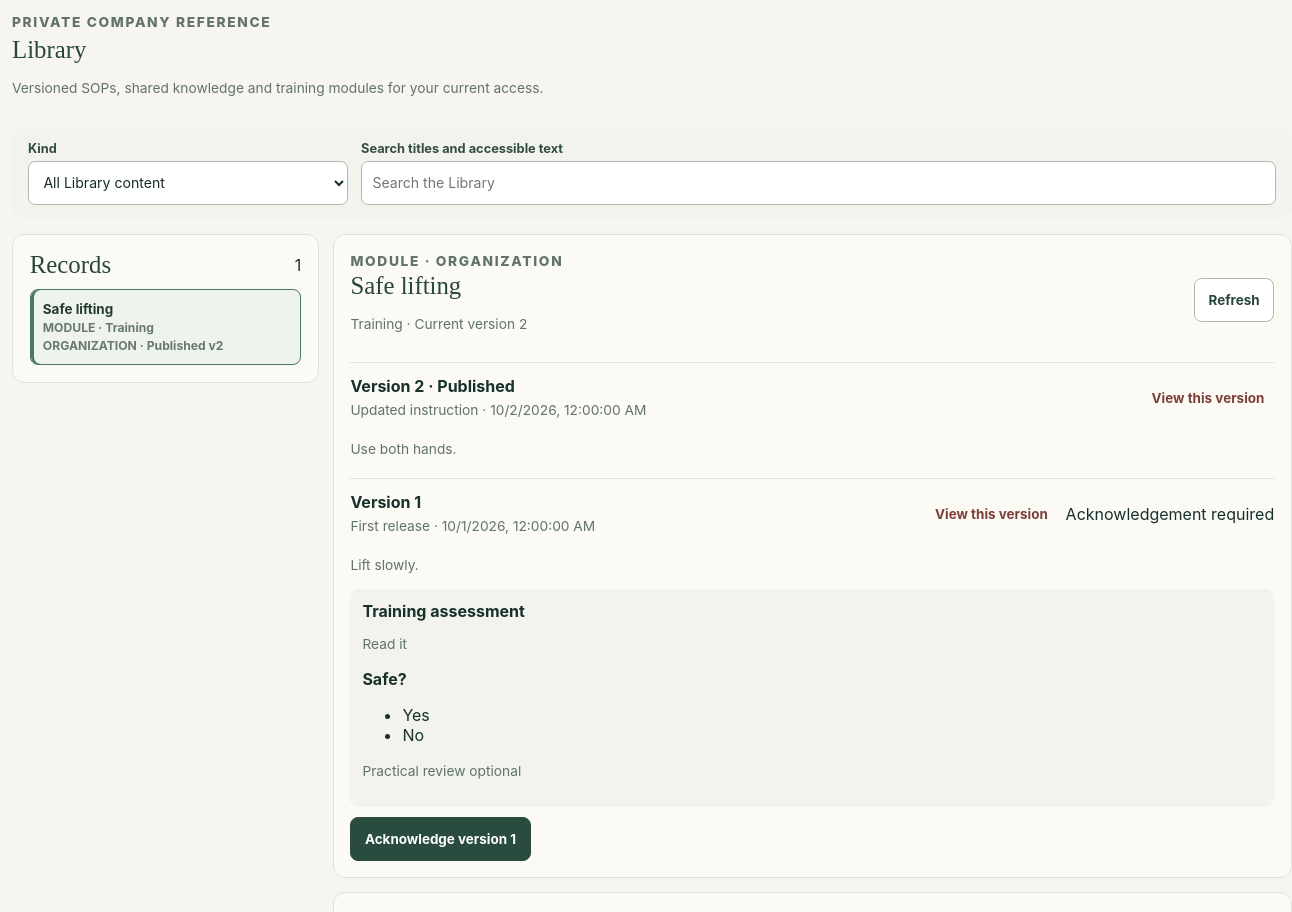
Scenario: LibraryWorkspace › retains exact published history, hides answer-key fields in the view, and acknowledges the older version ID
Expected: the text "Lift slowly." is shown, left=350, top=557, right=419, bottom=573
Expected: the text "First release · 10/1/2026, 12:00:00 AM" is shown, left=350, top=516, right=595, bottom=537
Click the button "Acknowledge version 1": (441, 839) left=350, top=817, right=531, bottom=861
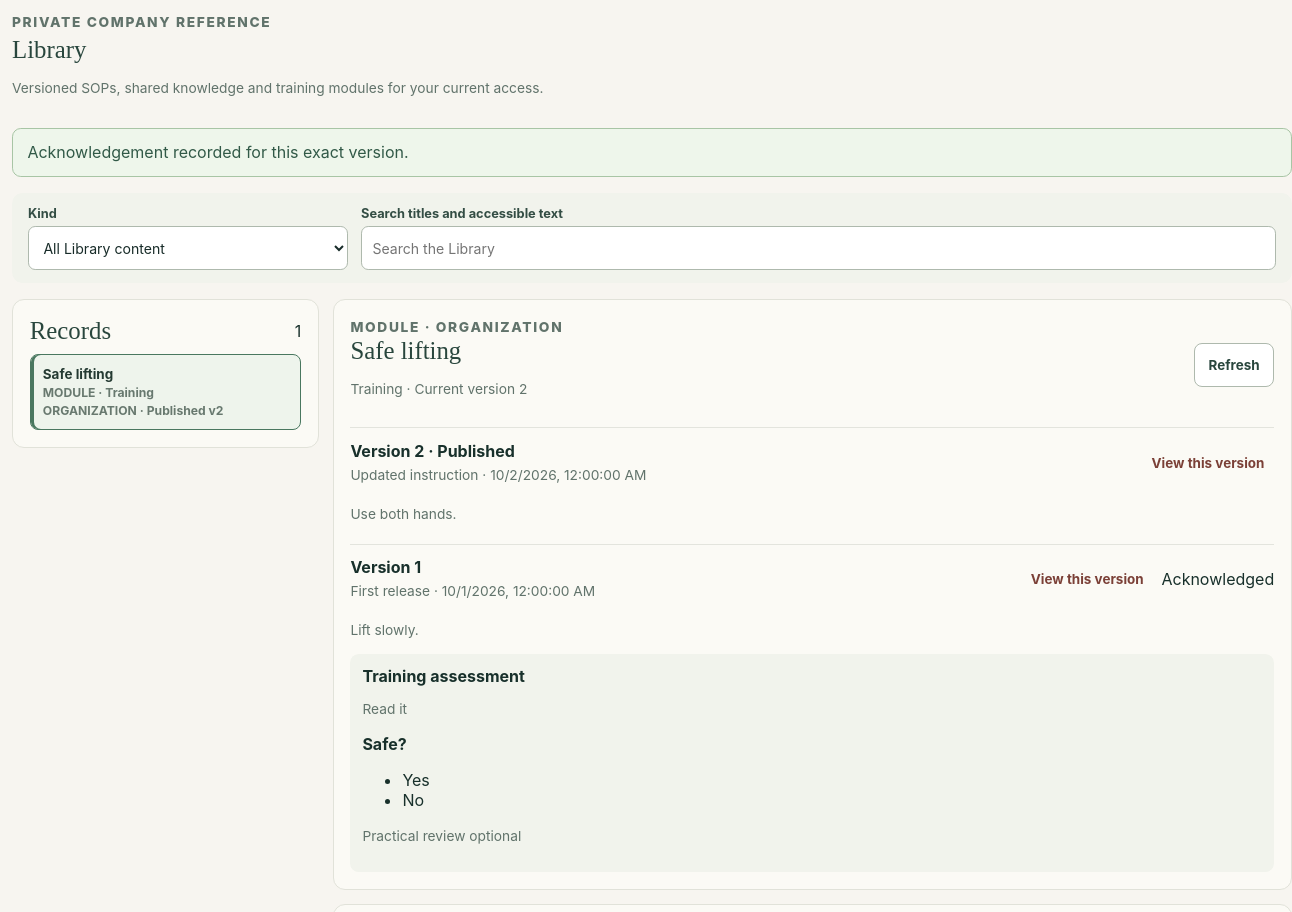
Expected: the text "Acknowledged" is shown, left=1162, top=569, right=1274, bottom=589
